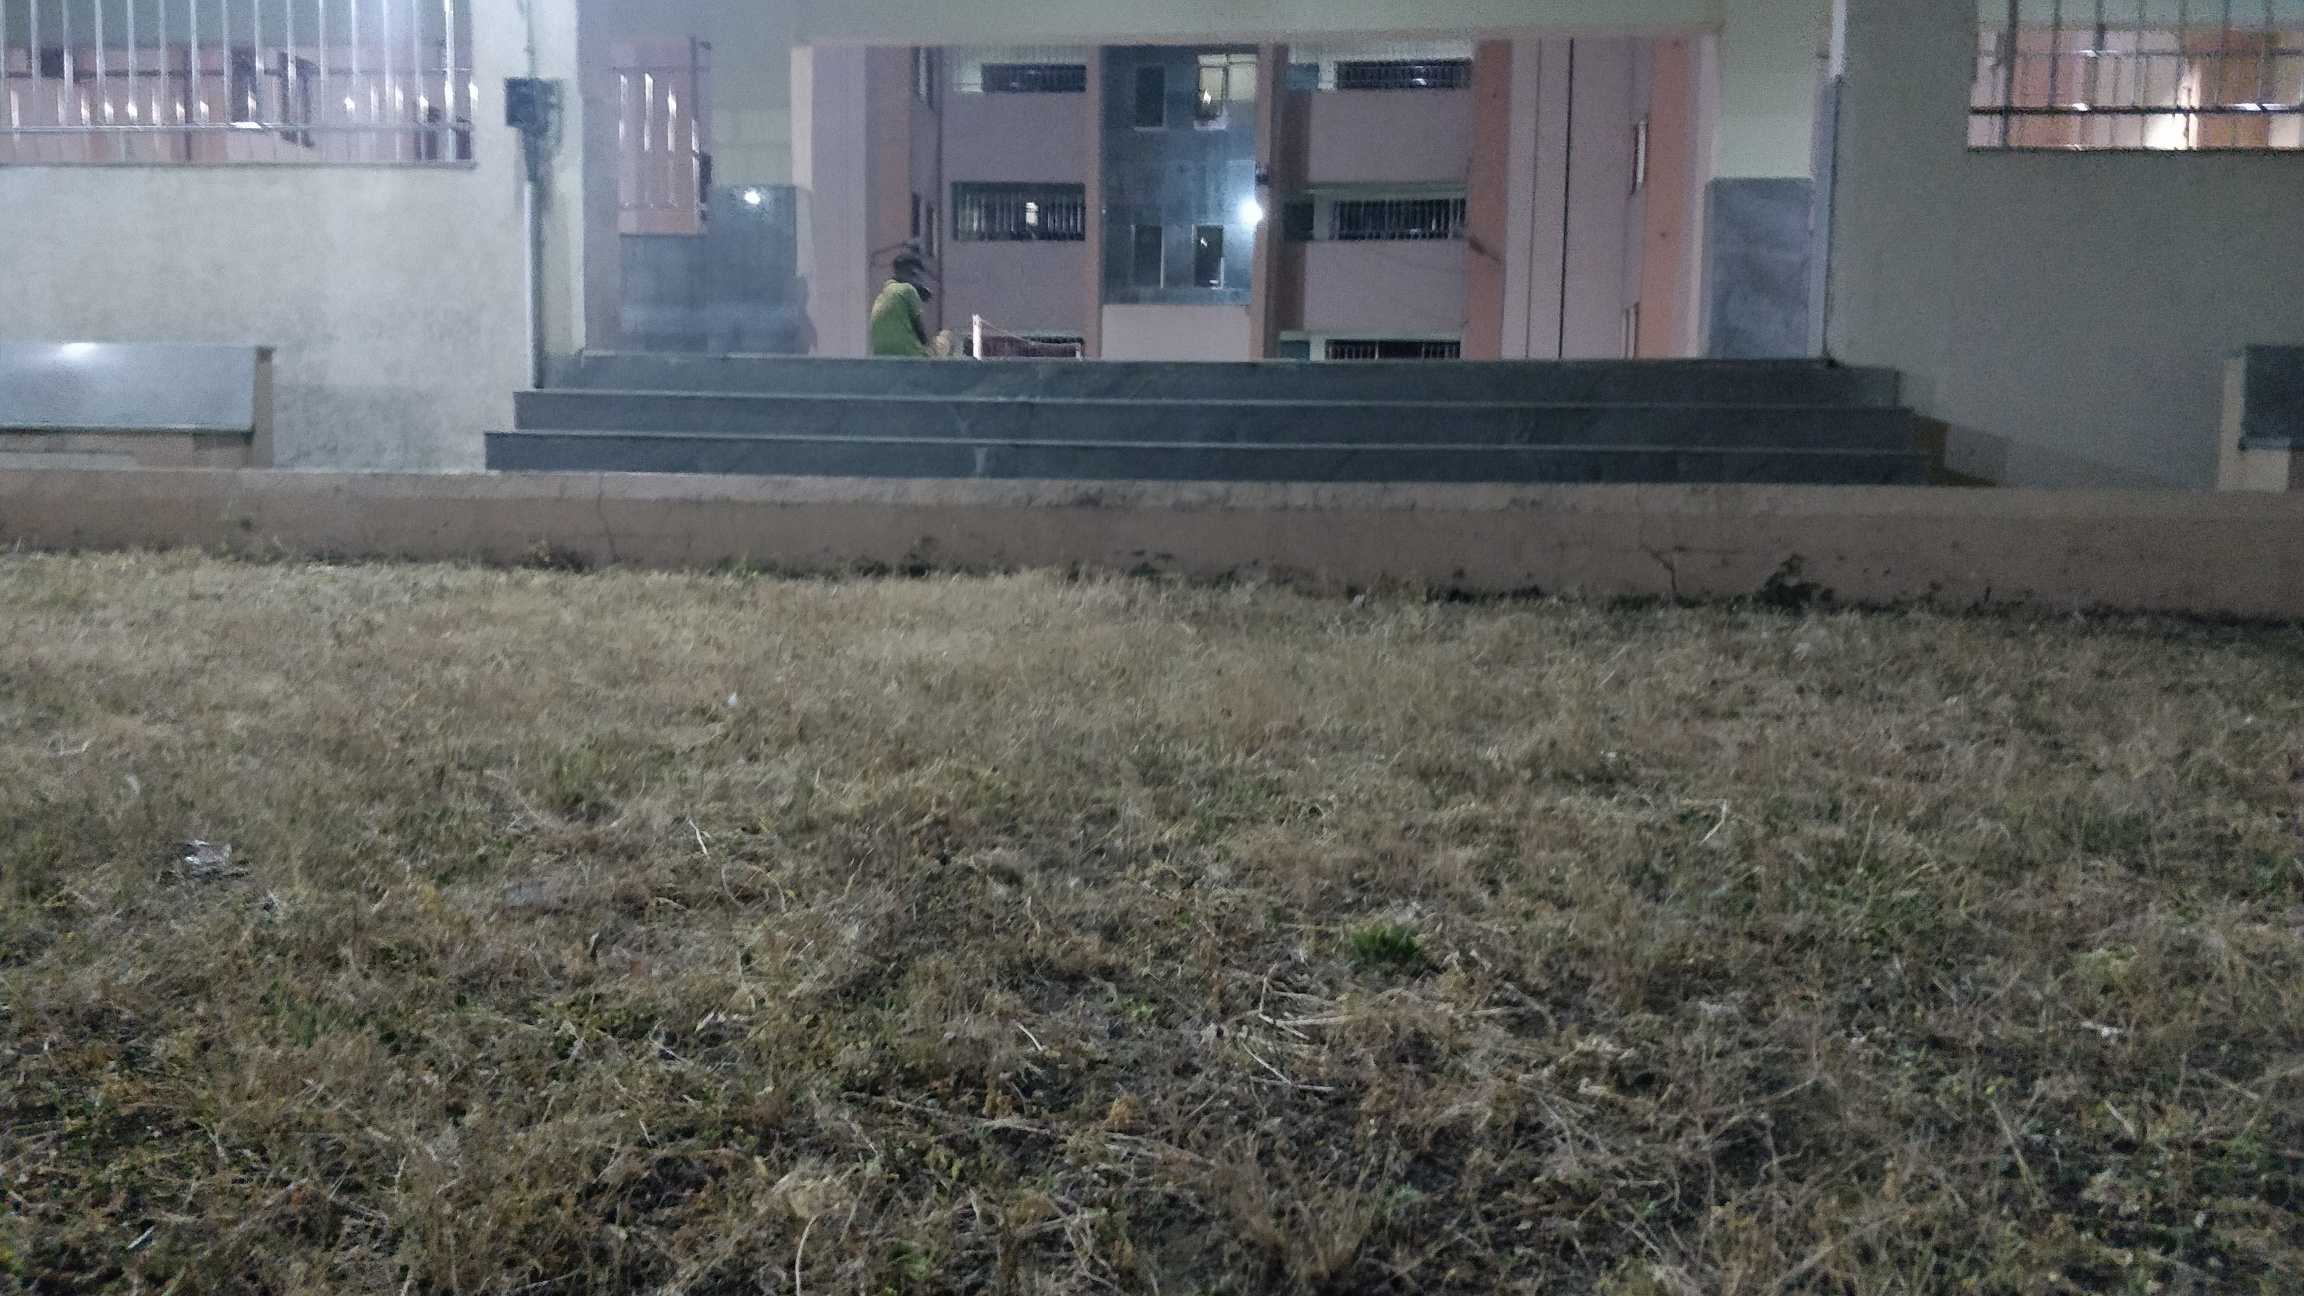stairs_up: (481, 350, 1938, 481)
